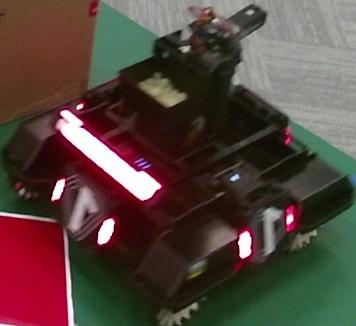armor_1: (52, 177, 116, 246), (239, 207, 295, 257)
back_1: (63, 175, 105, 242)
light: (56, 108, 163, 202)
right_1: (249, 202, 289, 265)
